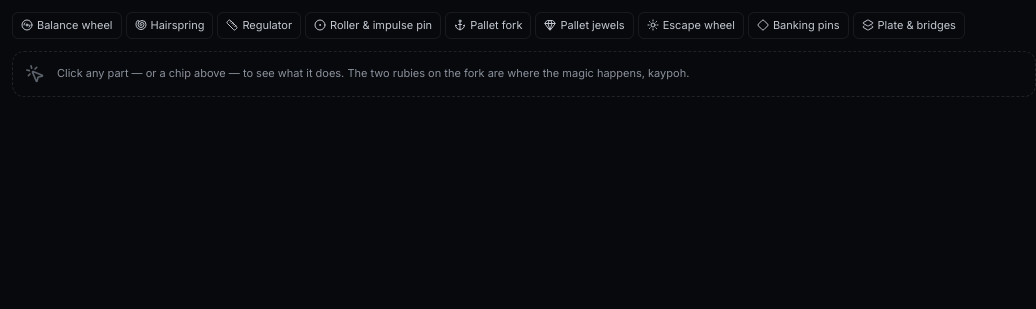
EscapementPartInspector › shows an explainer card for a chip and clears it again
expect the text "Click any part" is shown: met, box 57,66 -> 689,80
Click the button "Pallet jewels": (585, 25) 536,12 -> 634,38
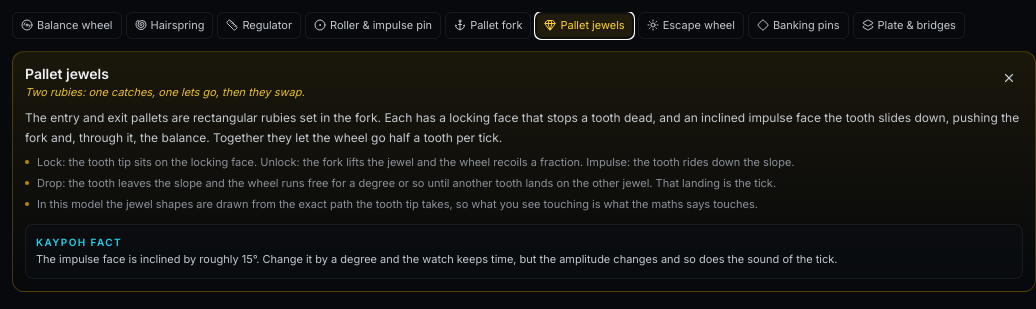
expect the text "Two rubies: one catches, one lets go, then they swap." is shown: met, box 25,84 -> 305,100
expect the text "The impulse face is inclined by roughly 15°. Change it by a degree and the watch keeps time, but the amplitude changes a" is shown: met, box 36,252 -> 838,266
Click the button named "clear selection": (1009, 78) 995,64 -> 1023,92
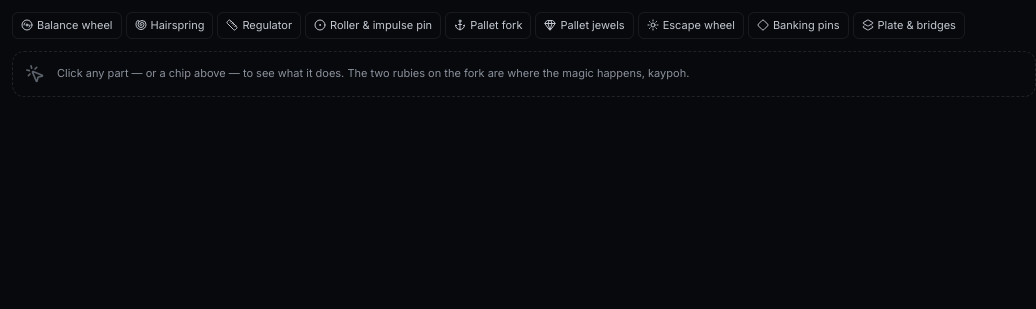
expect the text "Click any part" is shown: met, box 57,66 -> 689,80
